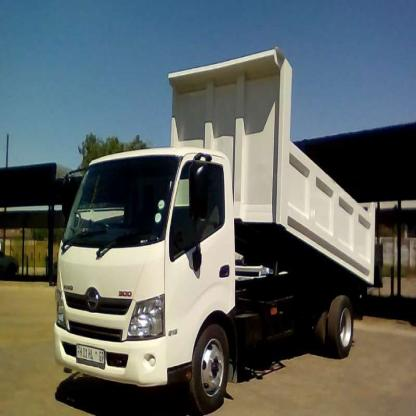dump_truck: (51, 45, 382, 415)
